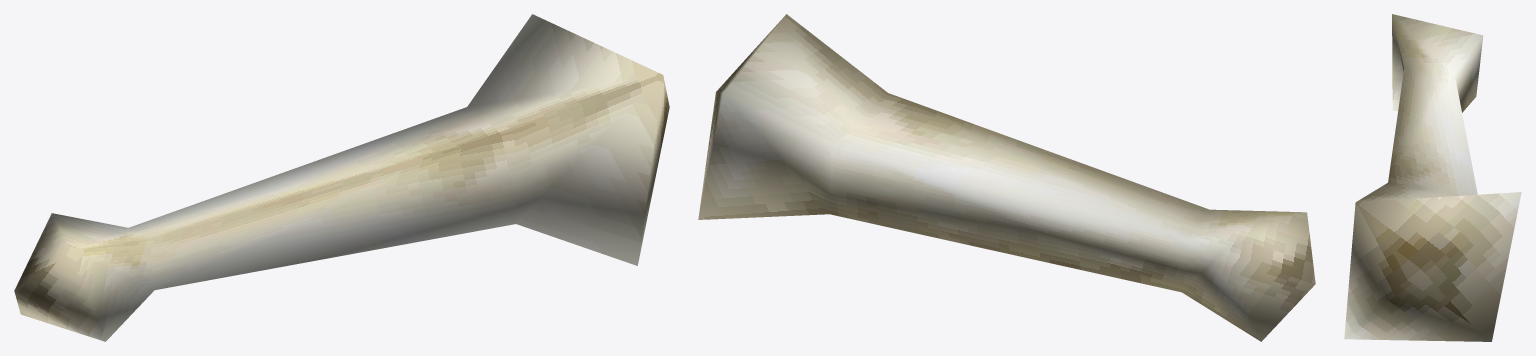
Rendered from bone01.obj.
The picture shows the model from 3 angles, left to right: view 1: azimuth 30°, elevation 25°; view 2: azimuth 150°, elevation 25°; view 3: azimuth 270°, elevation 25°; orthographic projection. The views are drawn at different scales.
Parts seen in each view (by area): view 1: bone01; view 2: bone01; view 3: bone01.
Part boxes in pixels (box(x1,y1,x2,y2)): bone01: box(14, 14, 669, 341); bone01: box(698, 14, 1315, 341); bone01: box(1344, 14, 1521, 341).
Size of the model in its own units: 0.6428 by 0.1705 by 0.1825.
